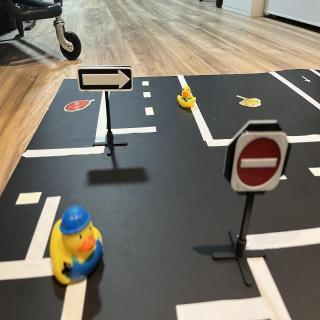duck_regular: (177, 86, 197, 110)
duck_specialty: (49, 205, 105, 290)
sign_noentry: (232, 133, 291, 193)
sign_oneway_right: (79, 67, 135, 93)
